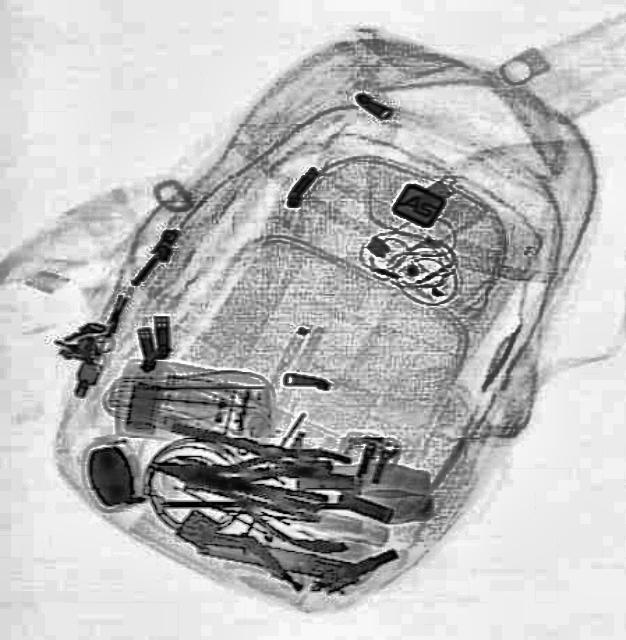Pliers: (136, 409, 372, 558)
